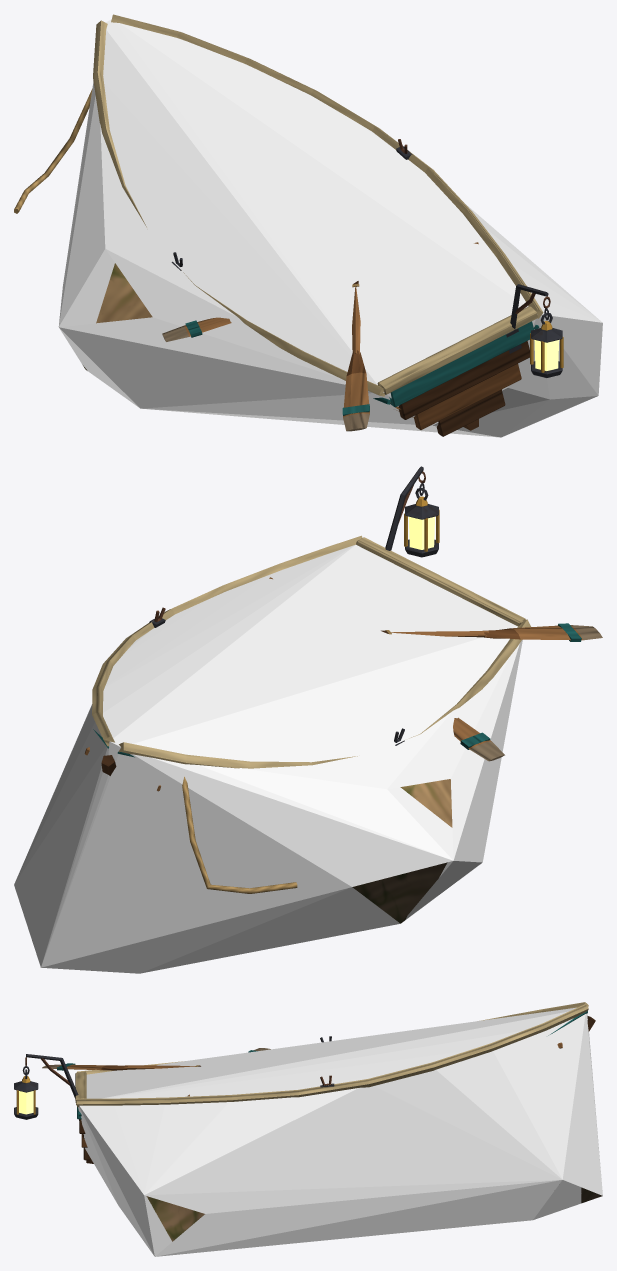
Rendered from beached_rowboat_wreck.glb.
3 renders of one model, top to bottom at view 1: azimuth 30°, elevation 25°; view 2: azimuth 150°, elevation 25°; view 3: azimuth 270°, elevation 25°, orthographic. The views are drawn at different scales.
Parts seen in each view (by area): view 1: col_rowboat, BeachedRowboatWreck; view 2: col_rowboat, BeachedRowboatWreck; view 3: col_rowboat, BeachedRowboatWreck.
Part boxes in pixels (x1,y1,x2,y2): col_rowboat: [58, 19, 602, 437]; BeachedRowboatWreck: [14, 14, 563, 436]; col_rowboat: [14, 545, 522, 973]; BeachedRowboatWreck: [84, 466, 602, 923]; col_rowboat: [78, 1007, 602, 1256]; BeachedRowboatWreck: [14, 1002, 602, 1241].
Size of the model in its own units: 3.5 by 2.08 by 5.87.
Materials: 8 (6 with a texture image).
